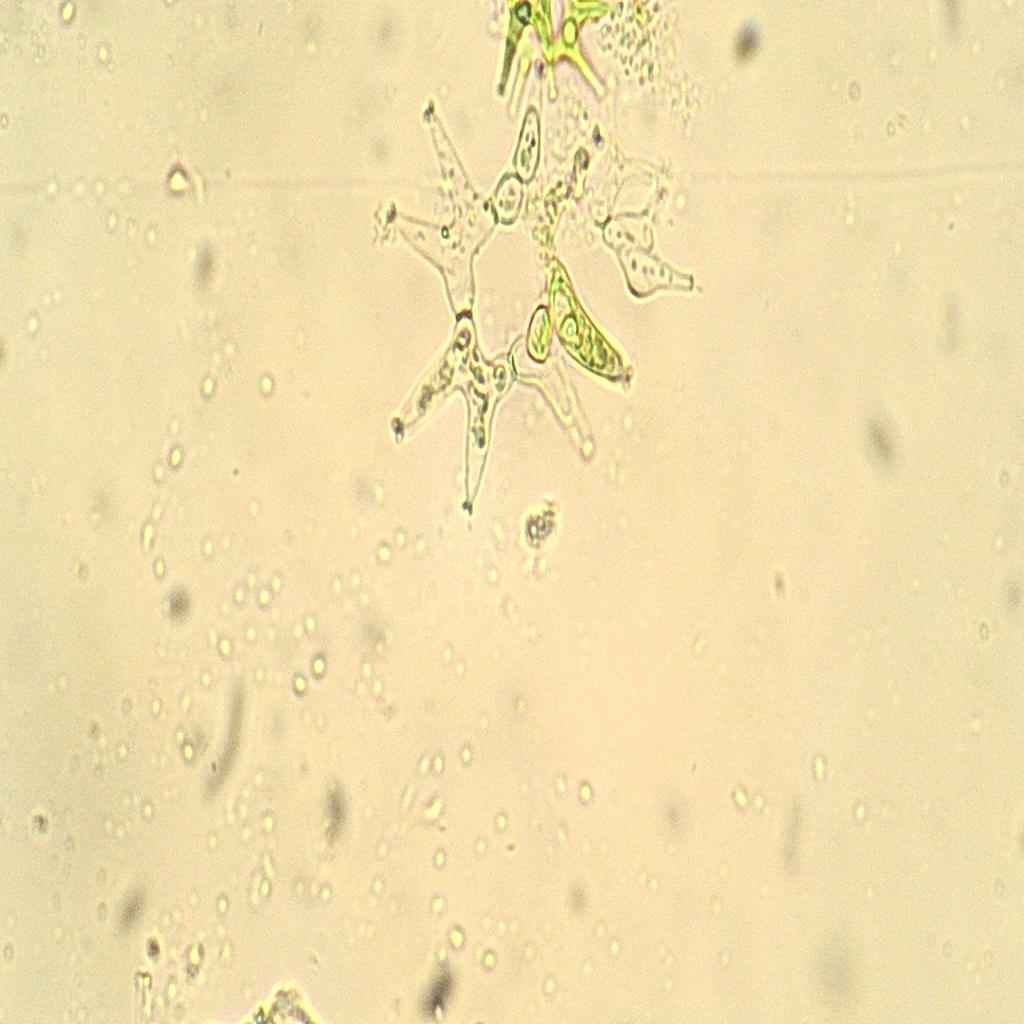Pediastrum_75TH: (365, 49, 675, 558)
